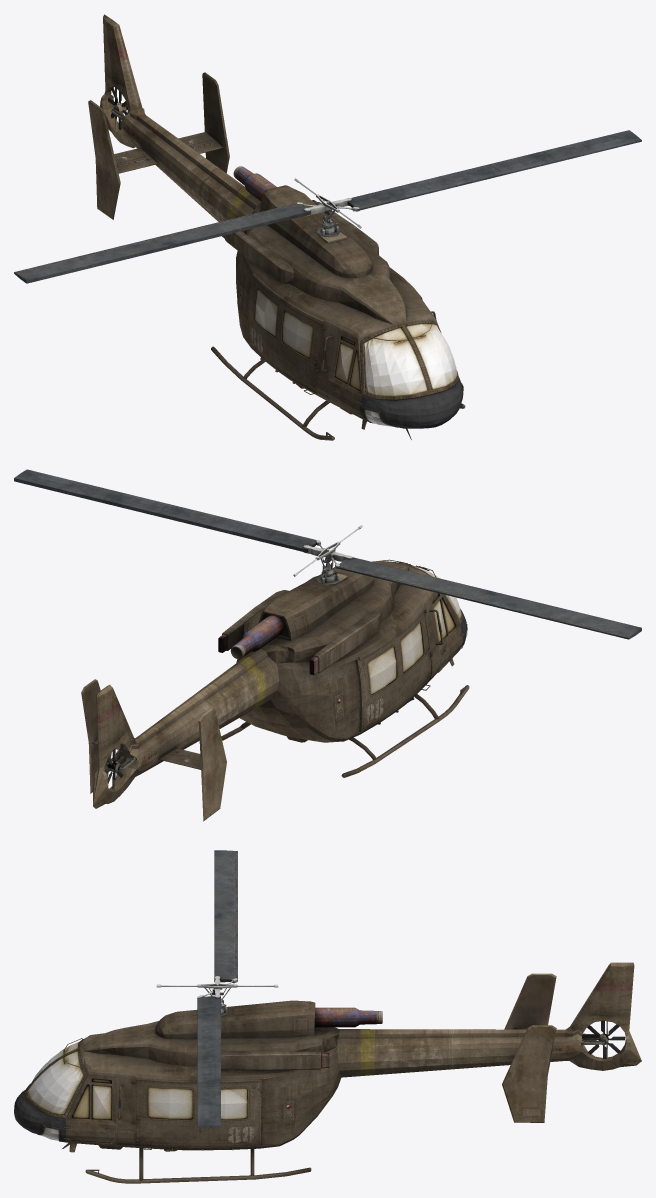
File: RE5_X360_VEHICLE_Helicopter_B.S.A.A.obj
The picture shows the model from 3 angles, top to bottom: view 1: azimuth 30°, elevation 25°; view 2: azimuth 150°, elevation 25°; view 3: azimuth 270°, elevation 25°; orthographic projection. The views are drawn at different scales.
Size of the model in its own units: 16.9 by 5.48 by 16.32.
Materials: 5 (5 with a texture image).
